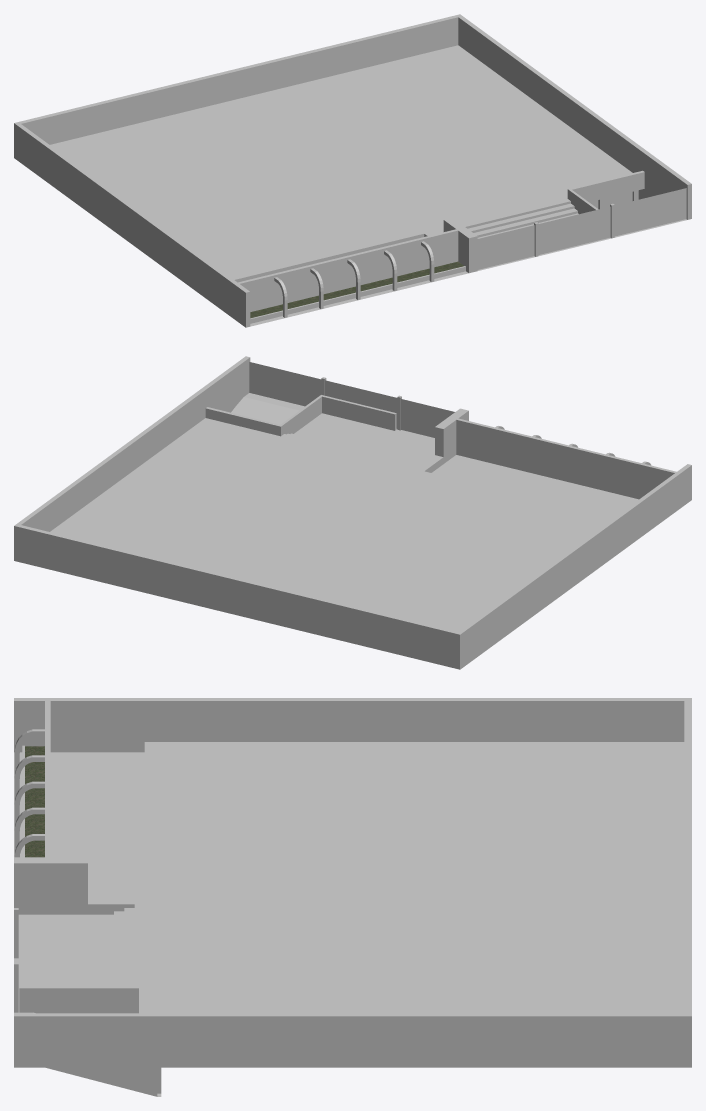
3 views of the same model, one above another, from view 1: azimuth 30°, elevation 25°; view 2: azimuth 150°, elevation 25°; view 3: azimuth 270°, elevation 25° (orthographic). The views are drawn at different scales.
Visible parts, largest first — view 1: Base-14; view 2: Base-14; view 3: Base-14.
Boxes of the visible parts, bbox=[...] form: Base-14: bbox=[14, 14, 691, 327]; Base-14: bbox=[14, 356, 691, 669]; Base-14: bbox=[14, 698, 691, 1096].
Size of what is drawn, in the model's own units: 40 by 4.9 by 36.
